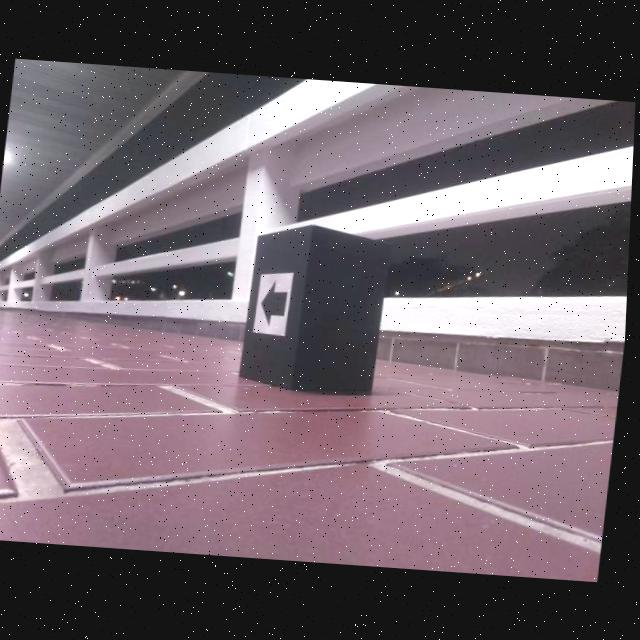LEFT: (263, 279, 291, 327)
